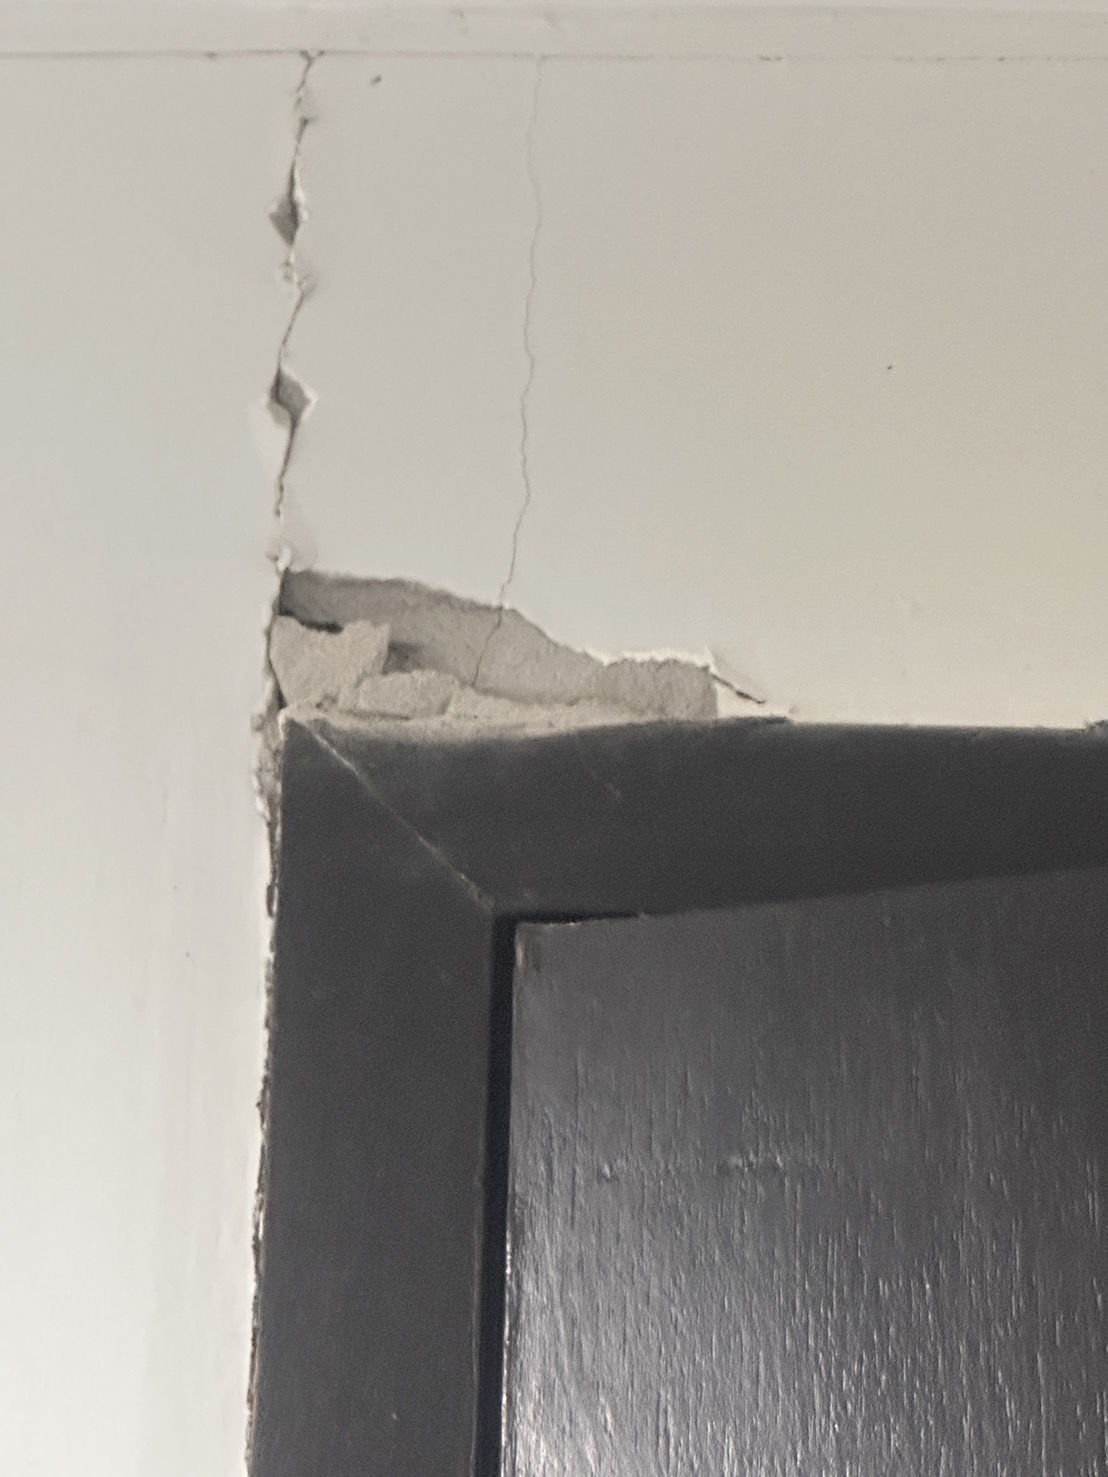Medium: (136, 49, 780, 718)
